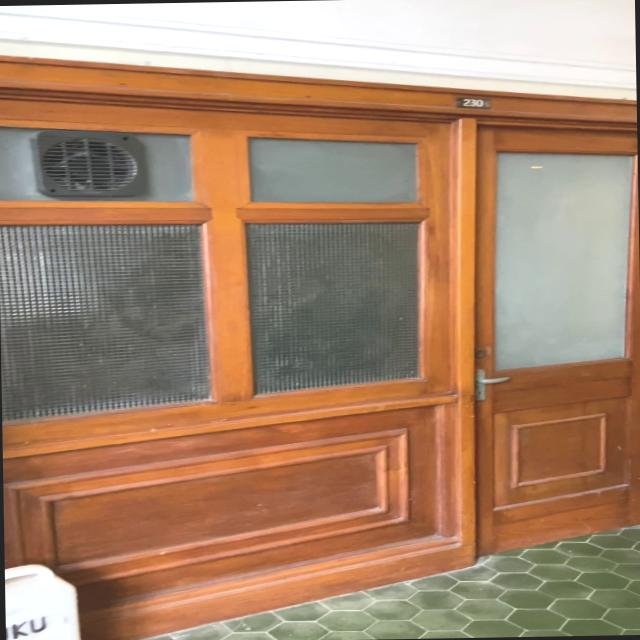room230: (453, 94, 491, 110)
